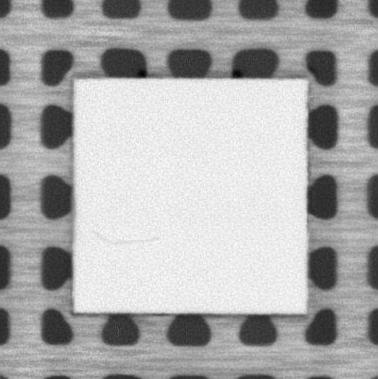DIE_CRACK: (91, 229, 161, 247)
